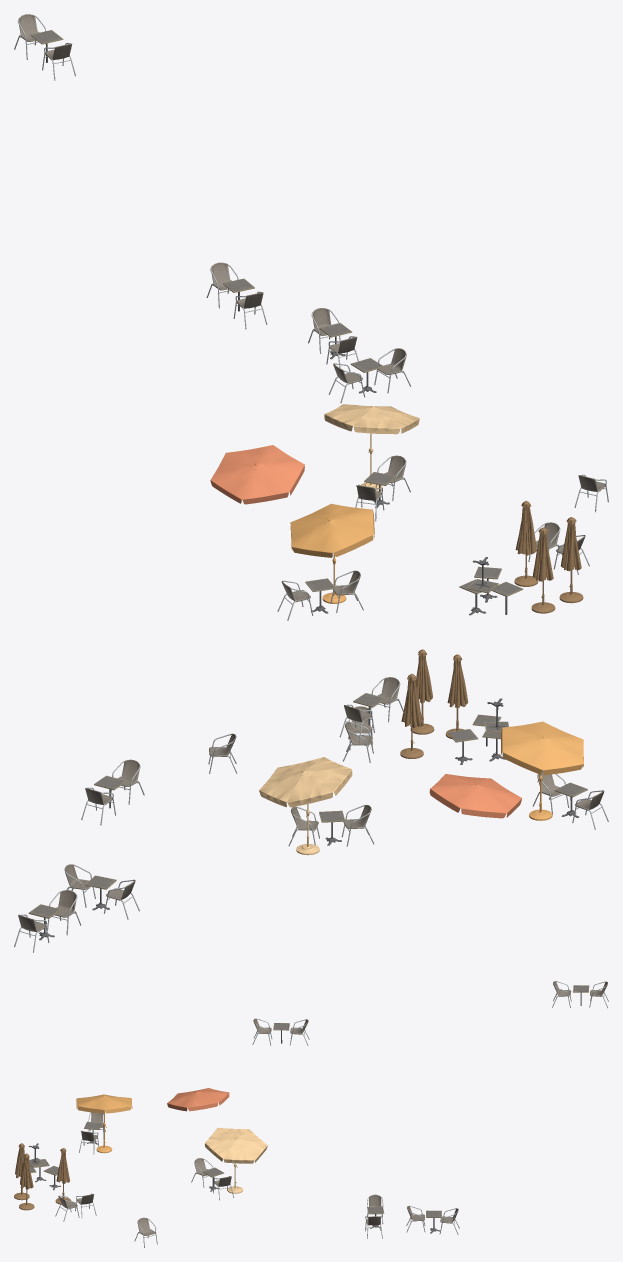
Rendered from InfernoSillasMesas.fbx.
The picture shows the model from 3 angles, top to bottom: view 1: azimuth 30°, elevation 25°; view 2: azimuth 150°, elevation 25°; view 3: azimuth 270°, elevation 25°; orthographic projection. The views are drawn at different scales.
Visible parts, largest first — view 1: node000_world_lr0_agg324_19_terrace_parasol_01.014, node000_world_lr0_agg323_11_terrace_chair_02.003, node000_world_lr0_agg325_17_terrace_table_01.008; view 2: node000_world_lr0_agg324_19_terrace_parasol_01.014, node000_world_lr0_agg323_11_terrace_chair_02.003, node000_world_lr0_agg325_17_terrace_table_01.008; view 3: node000_world_lr0_agg324_19_terrace_parasol_01.014, node000_world_lr0_agg323_11_terrace_chair_02.003, node000_world_lr0_agg325_17_terrace_table_01.008.
Part boxes in pixels (box(x1,y1,x2,y2)): node000_world_lr0_agg324_19_terrace_parasol_01.014: box(210, 404, 583, 613); node000_world_lr0_agg323_11_terrace_chair_02.003: box(14, 14, 608, 620); node000_world_lr0_agg325_17_terrace_table_01.008: box(30, 30, 523, 615); node000_world_lr0_agg324_19_terrace_parasol_01.014: box(259, 649, 583, 855); node000_world_lr0_agg323_11_terrace_chair_02.003: box(14, 677, 608, 952); node000_world_lr0_agg325_17_terrace_table_01.008: box(28, 693, 587, 940); node000_world_lr0_agg324_19_terrace_parasol_01.014: box(14, 1088, 267, 1210); node000_world_lr0_agg323_11_terrace_chair_02.003: box(55, 981, 608, 1247); node000_world_lr0_agg325_17_terrace_table_01.008: box(28, 985, 589, 1233).
Bounding box in the file's own units: 1303 × 990 × 2802.
